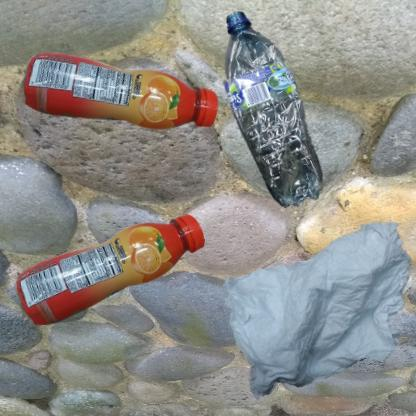botella: (10, 10, 290, 229), (213, 10, 338, 216), (10, 213, 219, 332)
papel: (213, 213, 416, 416)
